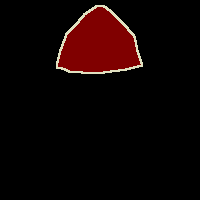hat: (56, 6, 142, 73)
